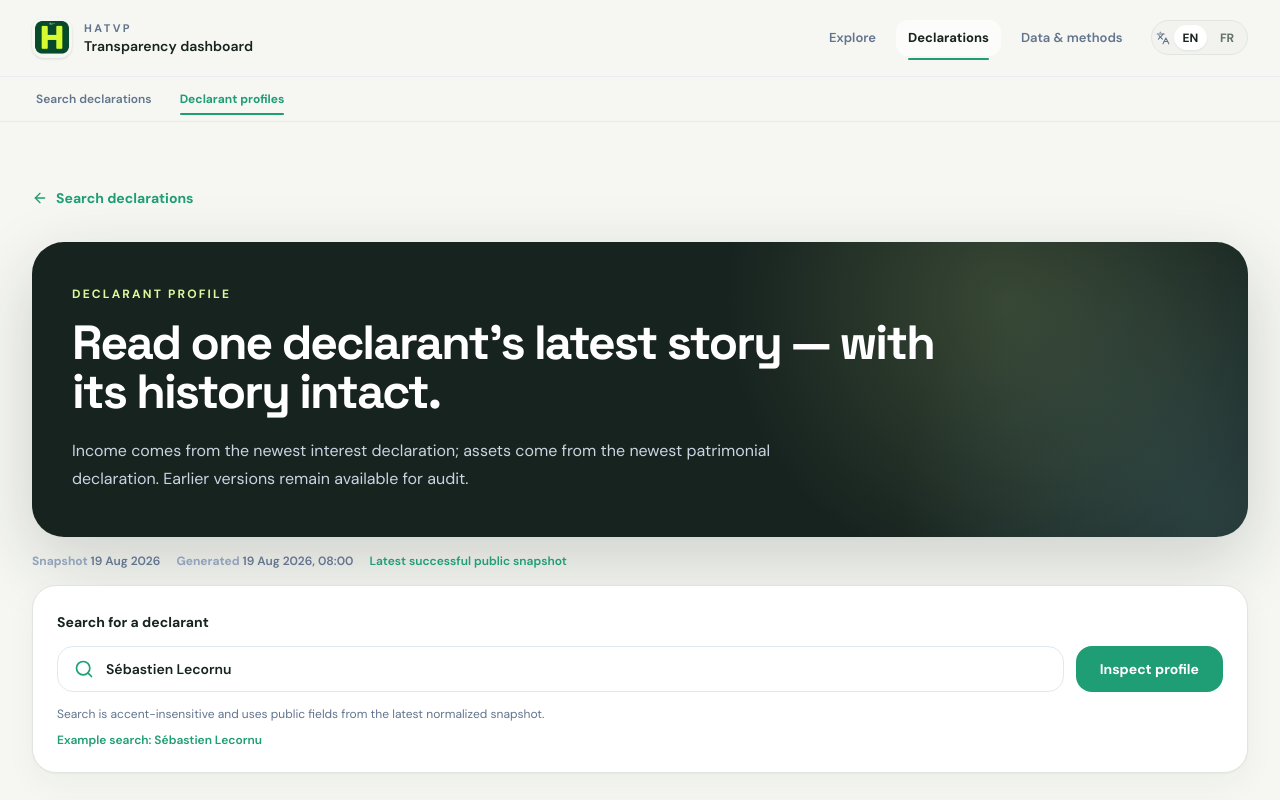
Test case: dashboard application › localizes the declarant story without exposing DTO labels in the main view
This screenshot has width=1280, height=800.
What coordinates should you click on to do the following:
click the button with aria-label "French"
I would click on:
 (1227, 38)
Its box is [1211,25,1243,50].
(page scrolled)
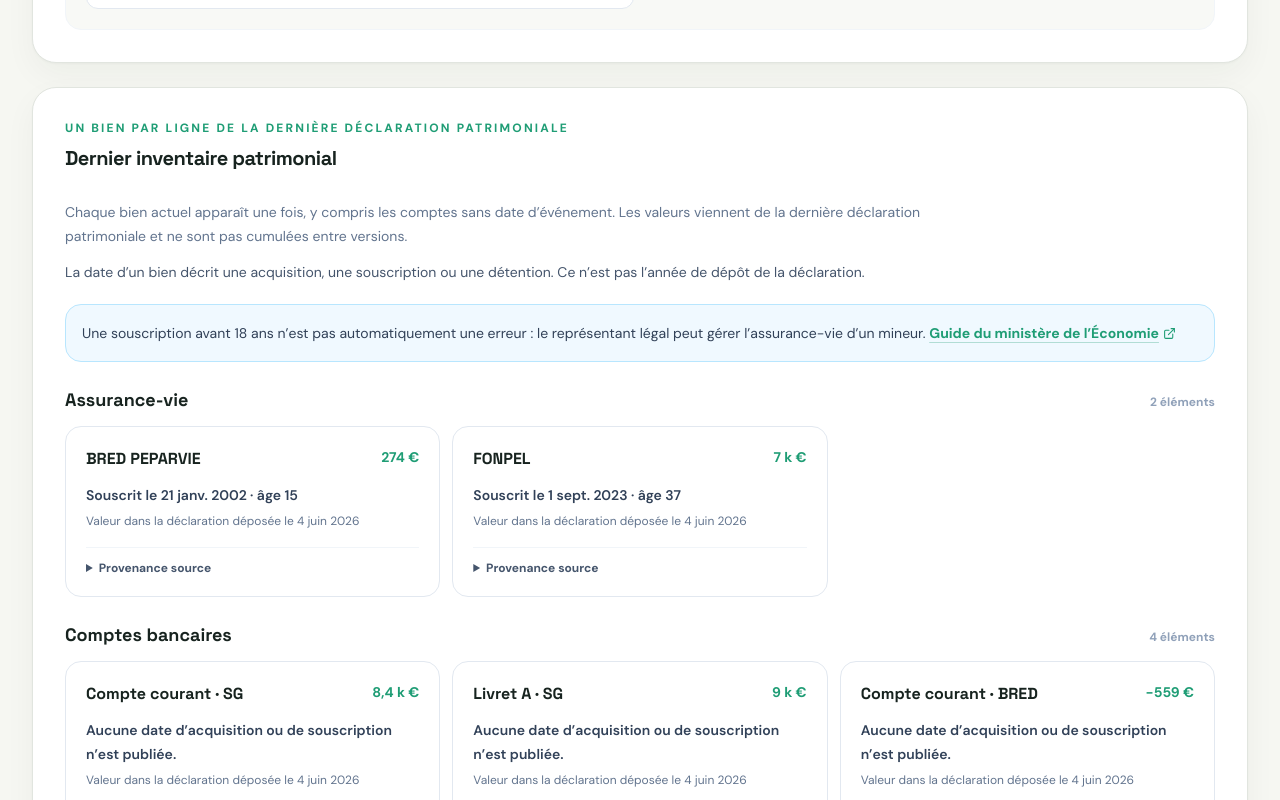
Expected: the heading "Dernier inventaire patrimonial" is shown, [65,144,337,172]
Expected: the text "Souscrit le 21 janv. 2002 · âge 15" is shown, [86,486,298,504]
Expected: the heading "Assurance-vie" is shown, [65,386,188,414]
